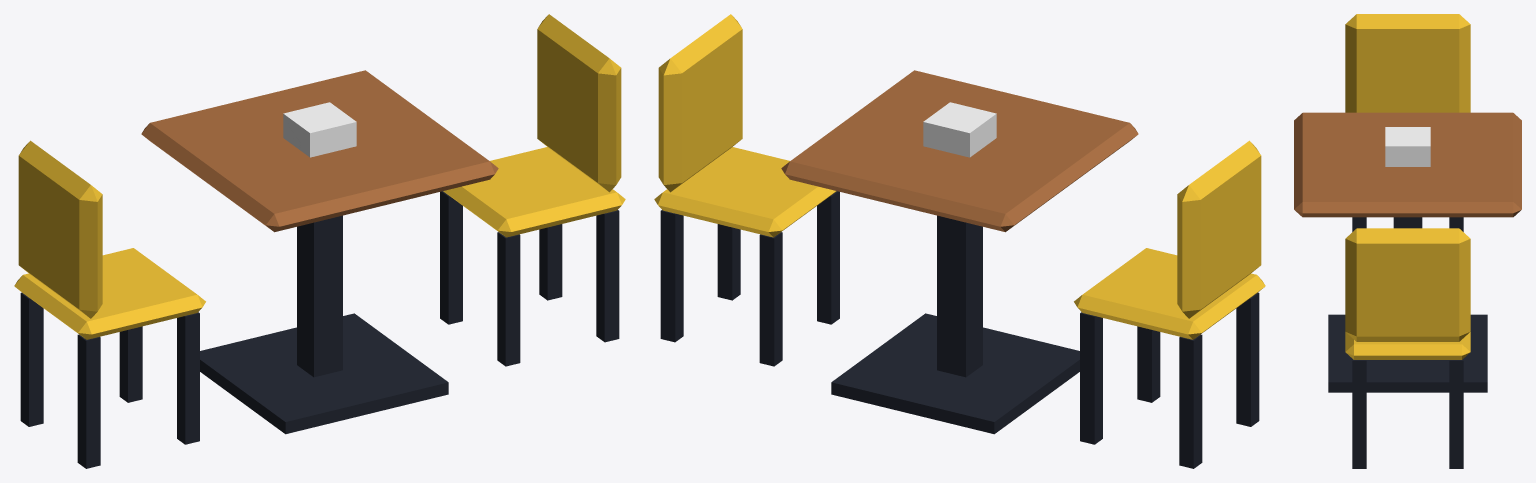
Rendered from cafe-table.glb.
3 renders of one model, left to right at view 1: azimuth 30°, elevation 25°; view 2: azimuth 150°, elevation 25°; view 3: azimuth 270°, elevation 25°, orthographic. The views are drawn at different scales.
Parts seen in each view (by area): view 1: cafe_table; view 2: cafe_table; view 3: cafe_table.
Part boxes in pixels (bbox=[...]): cafe_table: bbox=[14, 14, 625, 468]; cafe_table: bbox=[654, 14, 1265, 468]; cafe_table: bbox=[1294, 14, 1521, 468].
Size of the model in its own units: 1.88 by 0.92 by 0.8.
